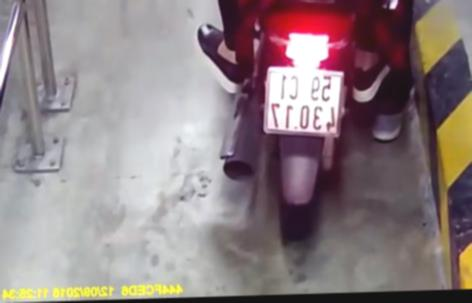License_Plate: (250, 65, 350, 143)
